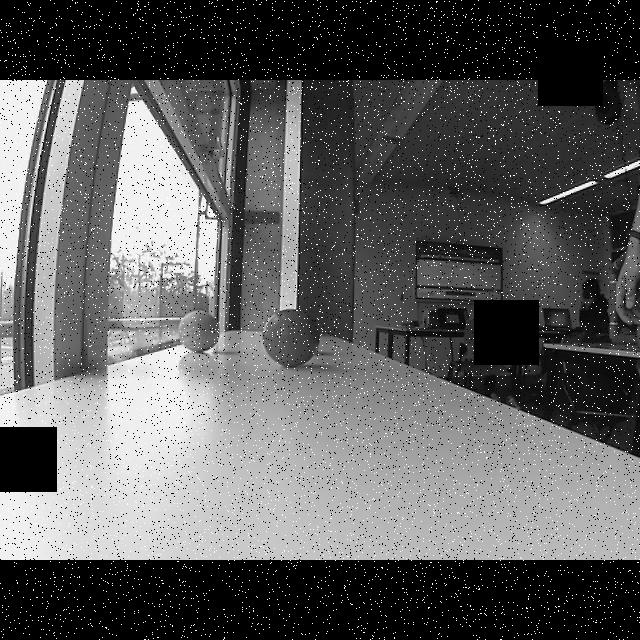ball: (262, 304, 322, 369), (175, 308, 221, 353)
